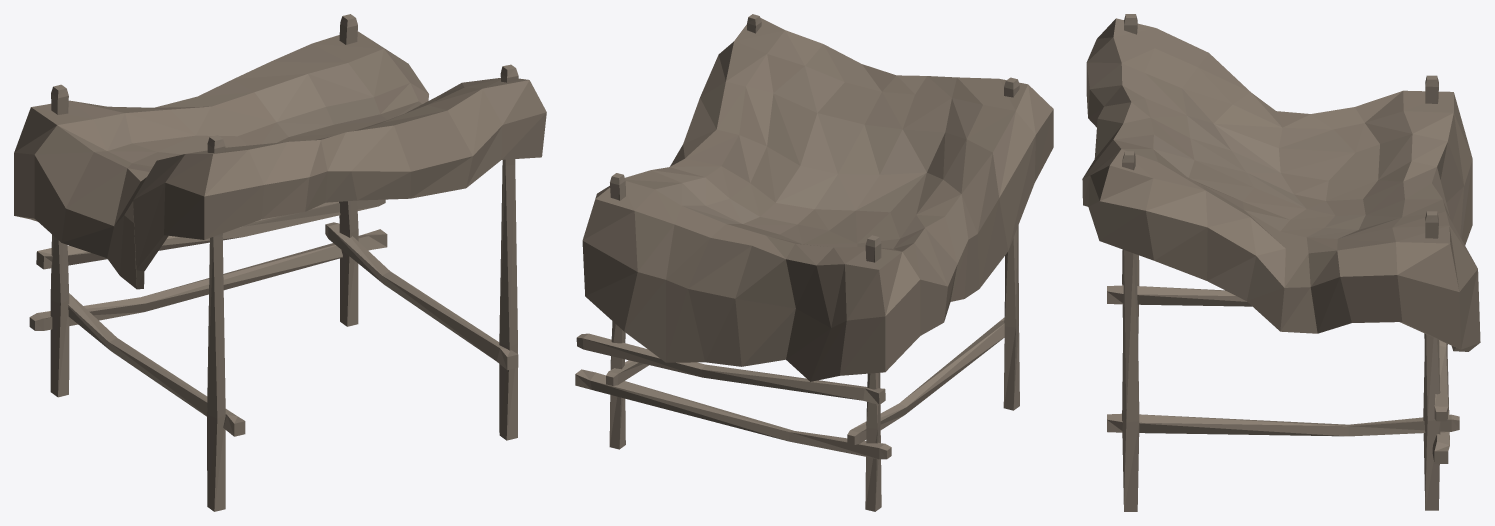
File: SM_Bld_Tent_03.glb
The picture shows the model from 3 angles, left to right: view 1: azimuth 30°, elevation 25°; view 2: azimuth 150°, elevation 25°; view 3: azimuth 270°, elevation 25°; orthographic projection. The views are drawn at different scales.
Visible parts, largest first — view 1: SM_Bld_Tent_03_00; view 2: SM_Bld_Tent_03_00; view 3: SM_Bld_Tent_03_00.
Part boxes in pixels (left/top/right/bottom): SM_Bld_Tent_03_00: left=14, top=14, right=546, bottom=511; SM_Bld_Tent_03_00: left=575, top=14, right=1053, bottom=511; SM_Bld_Tent_03_00: left=1082, top=14, right=1480, bottom=511.
Bounding box in the file's own units: 2.81 × 2.69 × 2.72.
Materials: 1 (1 with a texture image).
